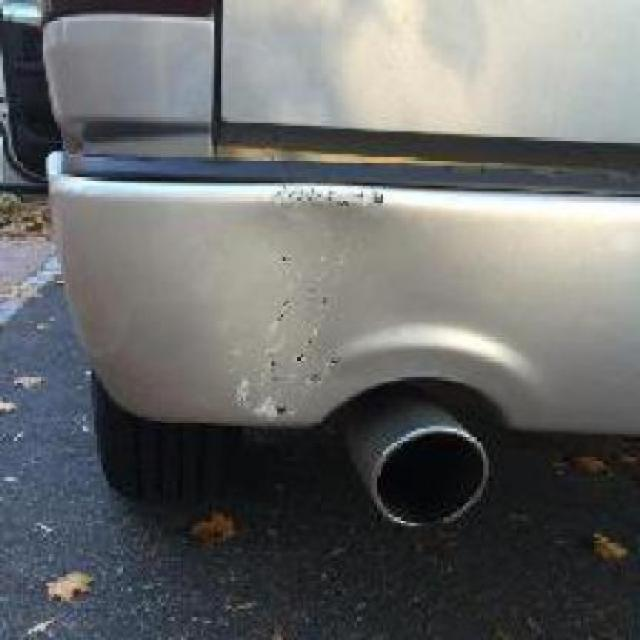dent-or-scratch: (232, 192, 350, 410)
